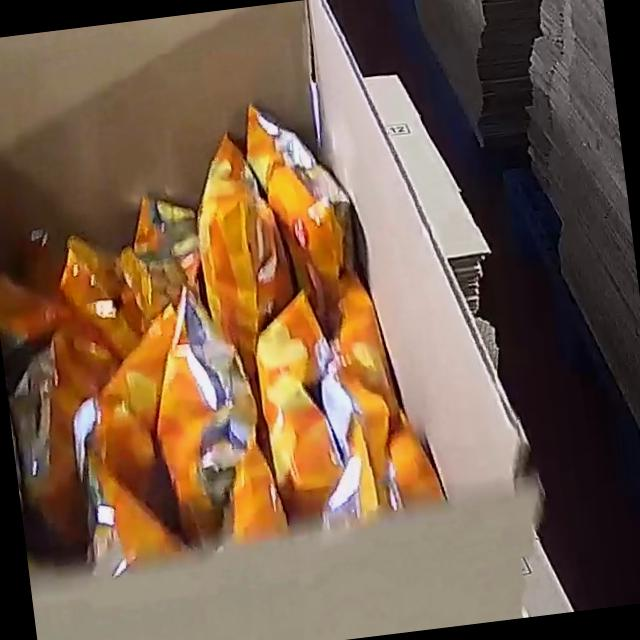cheese: (0, 84, 449, 585)
